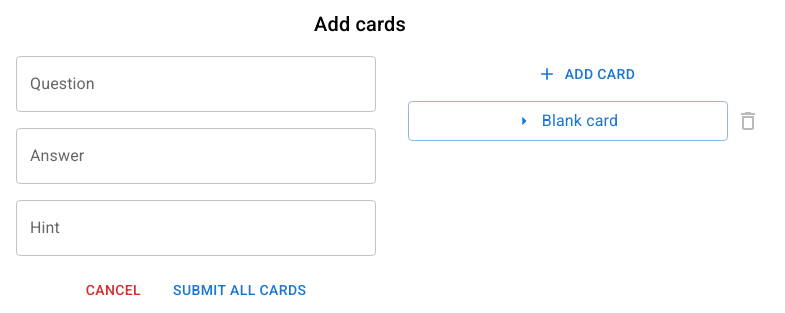
Scenario: card form component › should remove a card from list after clicking remove card button if there is more than one card
Click the button "Add card": x=588, y=74 x1=408 y1=56 x2=768 y2=92
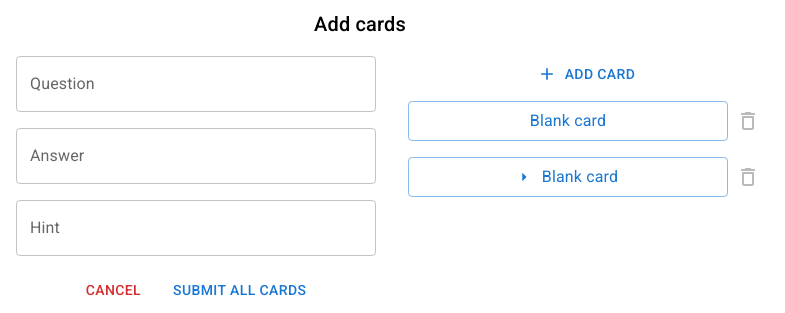
Click the 1st button named "remove card": x=748, y=120 x1=728 y1=100 x2=768 y2=140
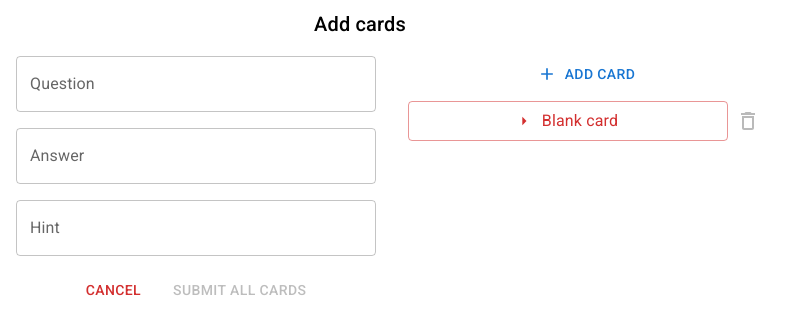
Expected: the number of buttons "Blank card" is 1, x1=408 y1=100 x2=728 y2=140
